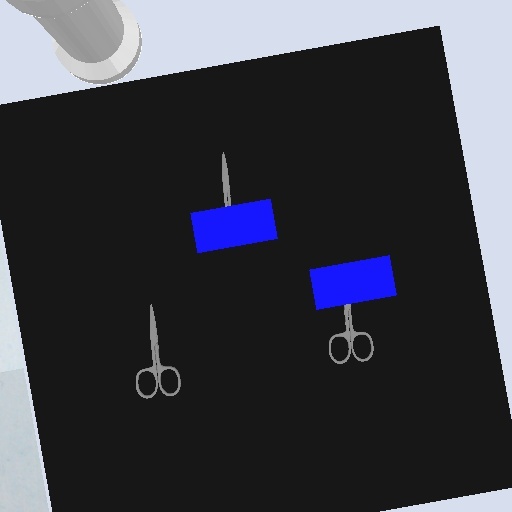tijera: (132, 302, 184, 401), (326, 303, 377, 367), (215, 148, 236, 208)
